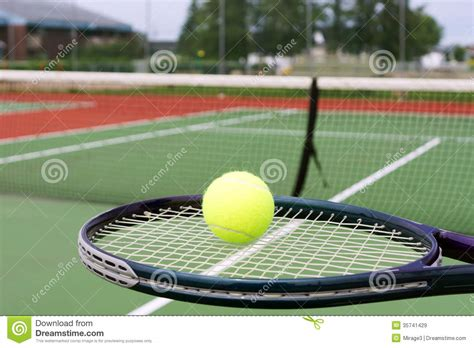tennis_ball: (202, 170, 275, 243)
